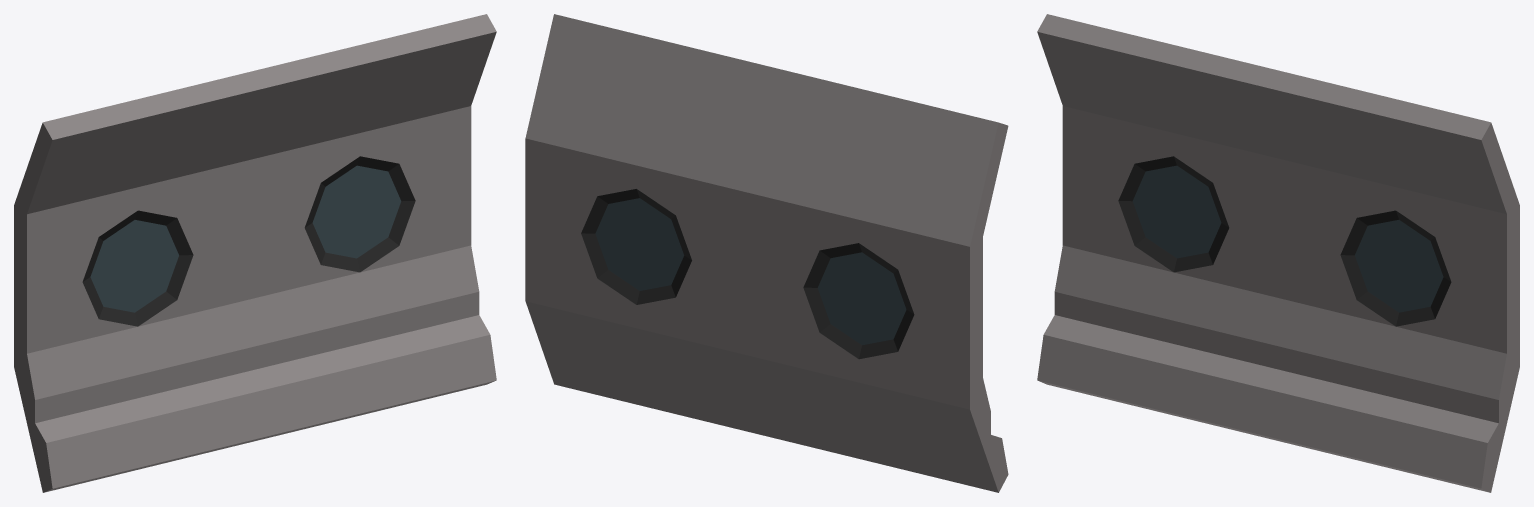
Rendered from scifi_scifi-windows-corridor.fbx.
3 views of the same model, side by side, from view 1: azimuth 30°, elevation 25°; view 2: azimuth 150°, elevation 25°; view 3: azimuth 330°, elevation 25° (orthographic).
Parts seen in each view (by area): view 1: scifi_scifi_windows_corridor; view 2: scifi_scifi_windows_corridor; view 3: scifi_scifi_windows_corridor.
Part boxes in pixels (left/top/right/bottom): scifi_scifi_windows_corridor: left=14, top=14, right=496, bottom=492; scifi_scifi_windows_corridor: left=525, top=14, right=1008, bottom=492; scifi_scifi_windows_corridor: left=1037, top=14, right=1519, bottom=492.
Bounding box in the file's own units: 200 × 159 × 30.
